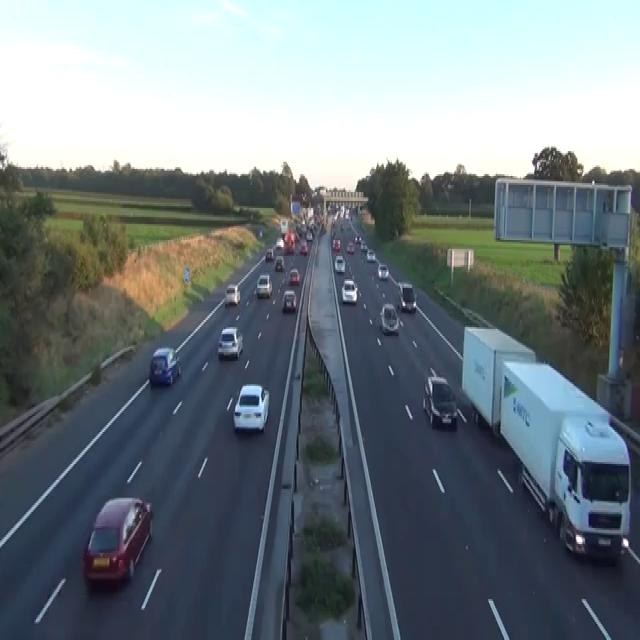Car: (82, 496, 153, 587), (422, 375, 457, 430), (232, 382, 269, 432), (149, 346, 181, 386), (217, 325, 243, 359), (379, 302, 399, 334), (397, 281, 416, 313), (341, 279, 358, 304), (224, 282, 240, 306), (256, 274, 272, 297), (282, 290, 297, 311), (471, 402, 482, 425), (334, 254, 345, 274), (289, 266, 300, 284), (377, 263, 389, 279), (274, 256, 284, 270), (366, 249, 376, 261), (273, 244, 283, 256), (346, 240, 354, 254), (300, 240, 308, 254), (332, 238, 340, 251), (265, 249, 273, 261), (275, 237, 284, 247), (360, 240, 367, 251), (344, 208, 350, 219), (305, 231, 312, 240), (355, 234, 361, 243), (331, 230, 337, 238), (340, 222, 344, 230), (259, 228, 262, 238)
Truck: (498, 359, 631, 564), (461, 324, 536, 439), (280, 217, 288, 236)
